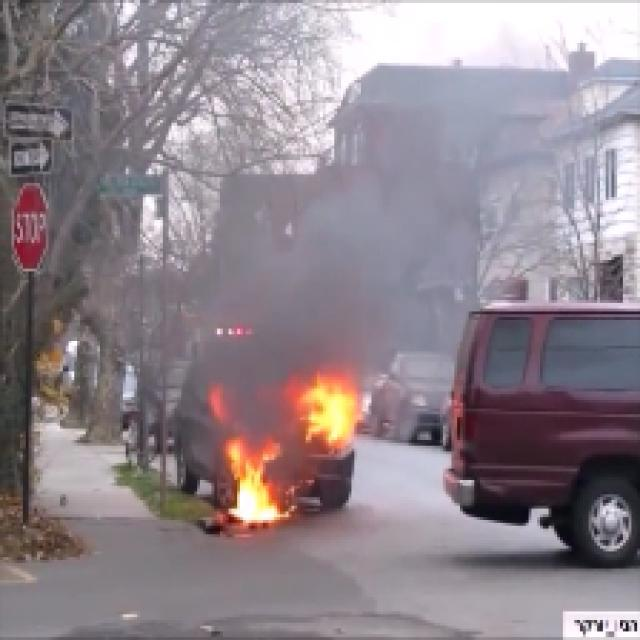fire: (216, 377, 352, 531)
smoke: (270, 198, 428, 363)
